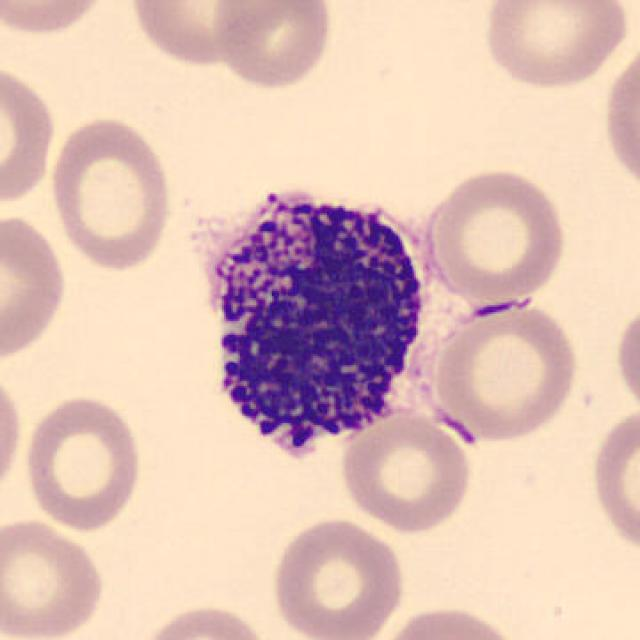Basophil: (183, 168, 452, 483)
RBC: (425, 296, 581, 446), (418, 164, 570, 305), (44, 111, 176, 273), (267, 513, 409, 640), (20, 392, 146, 534), (336, 407, 475, 534), (478, 0, 633, 92), (0, 515, 108, 640), (210, 0, 336, 93), (0, 208, 71, 367), (124, 0, 270, 69), (0, 58, 59, 210), (587, 398, 638, 562), (599, 37, 640, 201), (374, 603, 524, 640), (135, 601, 274, 640), (0, 0, 114, 39), (611, 298, 640, 419), (0, 365, 25, 504)
